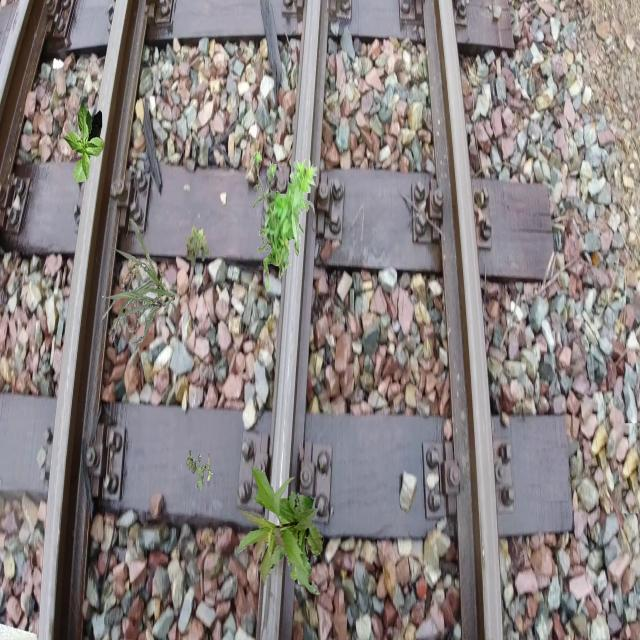Plant: (235, 467, 324, 597), (253, 149, 318, 292), (102, 219, 175, 344), (63, 103, 105, 183), (186, 451, 214, 492), (185, 225, 211, 268), (284, 540, 308, 581)
